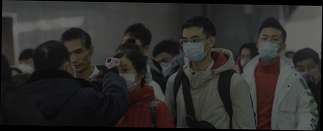with_mask: (180, 33, 211, 62), (115, 61, 141, 95), (258, 32, 285, 61), (296, 61, 320, 85), (153, 56, 178, 78), (60, 56, 78, 81), (17, 58, 37, 75), (240, 50, 254, 70)
without_mask: (67, 46, 90, 73)
